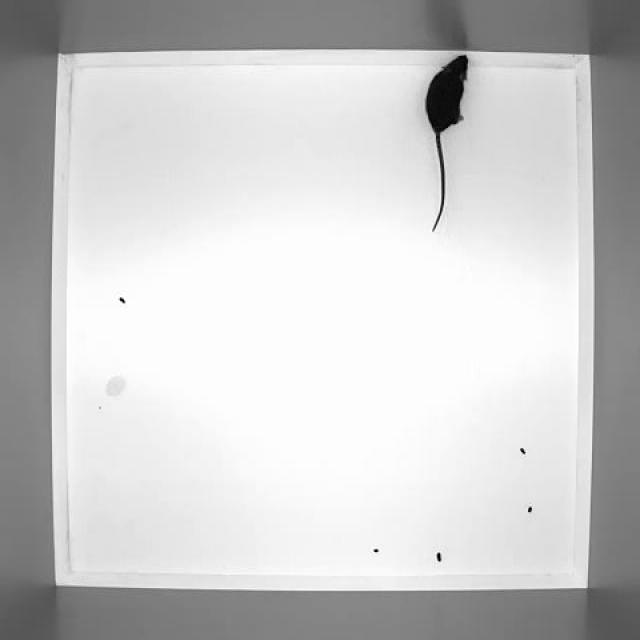rat: (427, 54, 470, 230)
